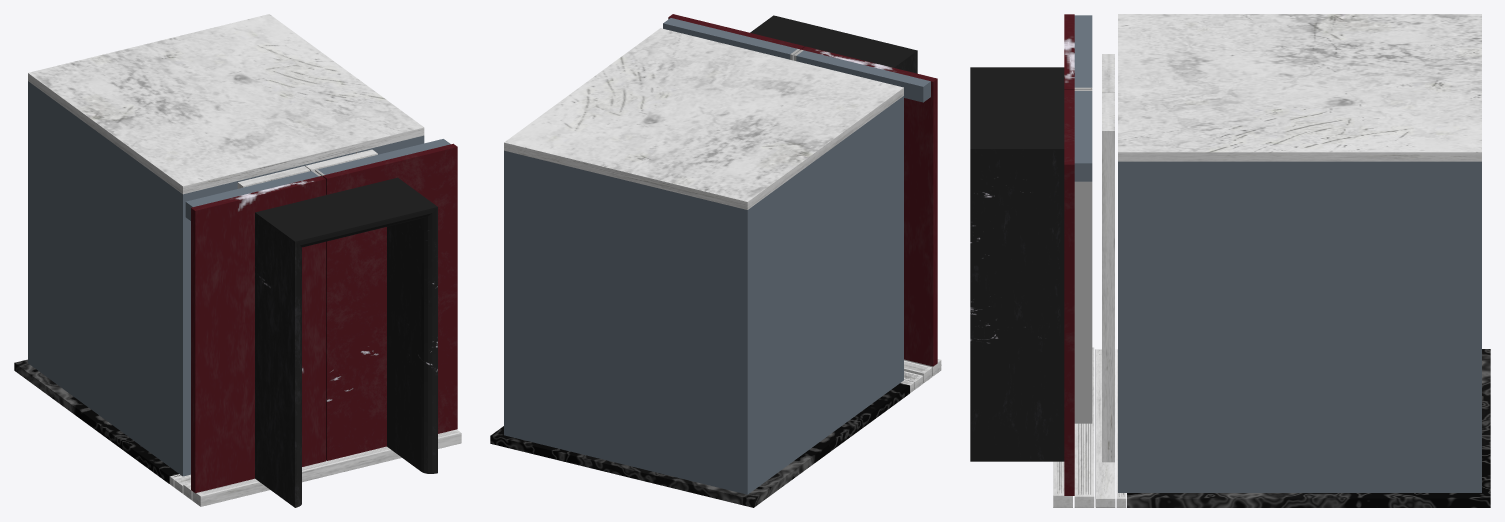
The model's file is elevator_2.fbx.
3 renders of one model, left to right at view 1: azimuth 30°, elevation 25°; view 2: azimuth 150°, elevation 25°; view 3: azimuth 270°, elevation 25°, orthographic. The views are drawn at different scales.
Visible parts, largest first — view 1: Cube.001, Cube.004, Cube.026, Cube.014, Cube.025, Cube.009, Cube, Cube.006, Cube.005; view 2: Cube.001, Cube.004, Cube.014, Cube, Cube.026, Cube.025; view 3: Cube.001, Cube.004, Cube.026, Cube.025, Cube, Cube.005, Cube.009, Cube.024, Cube.014.
Part boxes in pixels (bbox=[...]): Cube.001: bbox=[28, 81, 424, 476]; Cube.004: bbox=[28, 14, 424, 194]; Cube.026: bbox=[255, 177, 437, 507]; Cube.014: bbox=[185, 170, 325, 493]; Cube.025: bbox=[315, 139, 457, 460]; Cube.009: bbox=[183, 429, 461, 506]; Cube: bbox=[14, 359, 178, 483]; Cube.006: bbox=[237, 166, 309, 188]; Cube.005: bbox=[305, 149, 377, 171]; Cube.001: bbox=[504, 96, 903, 494]; Cube.004: bbox=[504, 28, 903, 209]; Cube.014: bbox=[794, 46, 937, 366]; Cube: bbox=[490, 383, 909, 507]; Cube.026: bbox=[750, 15, 917, 73]; Cube.025: bbox=[663, 14, 804, 60]; Cube.001: bbox=[1118, 161, 1481, 492]; Cube.004: bbox=[1118, 14, 1481, 161]; Cube.026: bbox=[970, 67, 1064, 461]; Cube.025: bbox=[1064, 89, 1092, 495]; Cube: bbox=[1127, 349, 1490, 507]; Cube.005: bbox=[1102, 92, 1114, 462]; Cube.009: bbox=[1053, 347, 1094, 507]; Cube.024: bbox=[1095, 349, 1126, 507]; Cube.014: bbox=[1064, 14, 1092, 89].
Bounding box in the file's own units: 232 × 252 × 339.
